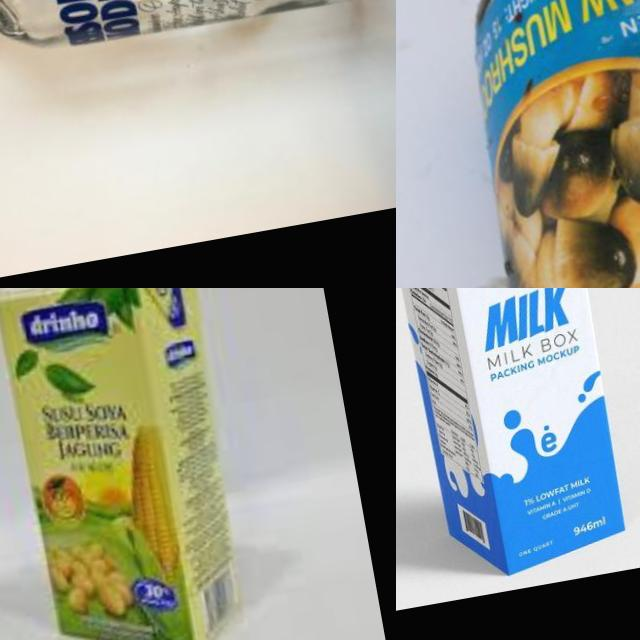caixinha: (0, 288, 251, 640), (396, 288, 632, 586)
garrafa de vidro: (0, 0, 396, 83)
lata: (438, 0, 640, 288)
